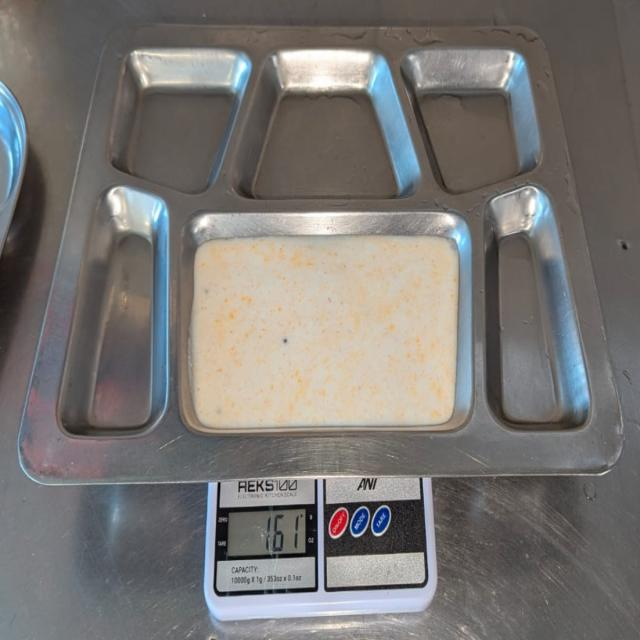Raita: (189, 228, 460, 431)
